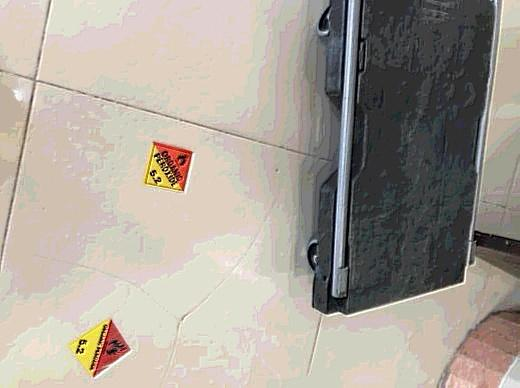organic-peroxide: (67, 318, 132, 379), (144, 143, 194, 193)
